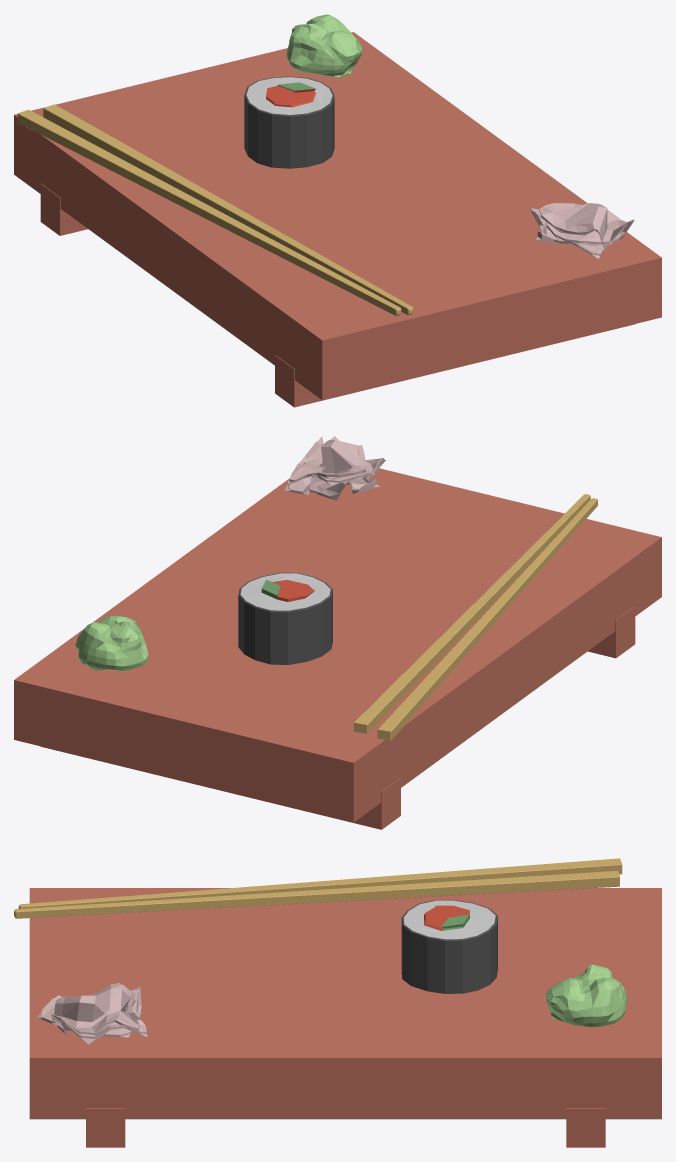
The model's file is sushi.fbx.
3 views of the same model, one above another, from view 1: azimuth 30°, elevation 25°; view 2: azimuth 150°, elevation 25°; view 3: azimuth 270°, elevation 25° (orthographic). The views are drawn at different scales.
Parts seen in each view (by area): view 1: sushi boar, chop_stick, sushi_1_05; view 2: sushi boar, chop_stick, sushi_1_05; view 3: sushi boar, chop_stick, sushi_1_05.
Part boxes in pixels (left/top/right/bottom): sushi boar: left=14, top=32, right=661, bottom=407; chop_stick: left=17, top=14, right=634, bottom=315; sushi_1_05: left=244, top=76, right=334, bottom=168; sushi boar: left=14, top=468, right=661, bottom=829; chop_stick: left=75, top=436, right=597, bottom=740; sushi_1_05: left=238, top=572, right=332, bottom=664; sushi boar: left=29, top=888, right=661, bottom=1147; chop_stick: left=14, top=858, right=626, bottom=1044; sushi_1_05: left=401, top=900, right=497, bottom=993.
Size of the model in its own units: 79.71 by 30.73 by 122.
